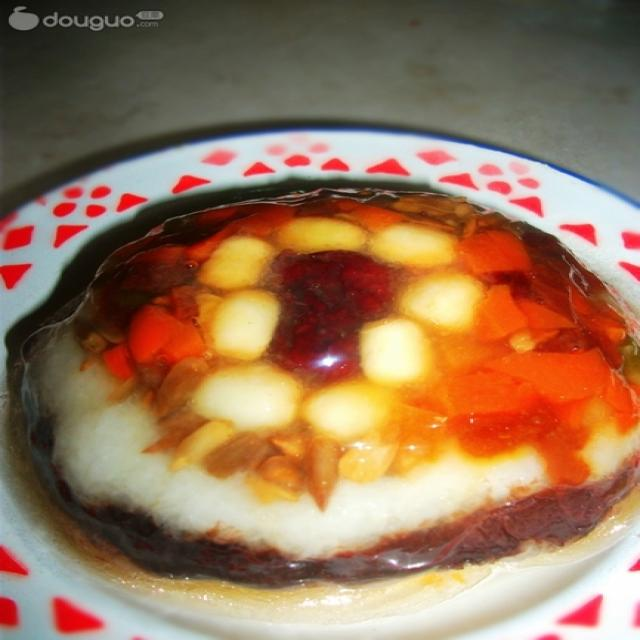米饭主食: (13, 166, 633, 604)
